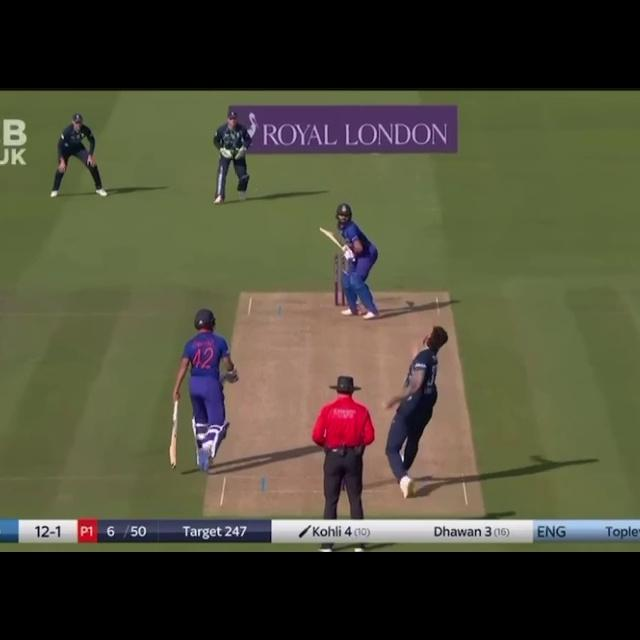umpire: (303, 370, 379, 521)
